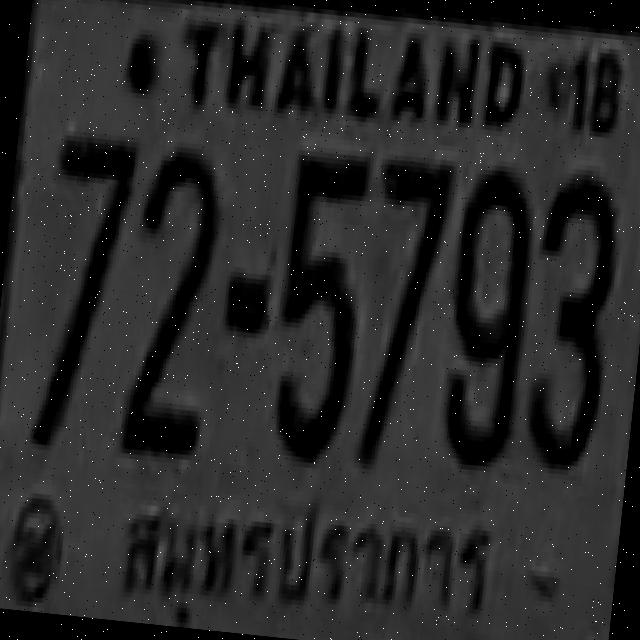2: (115, 141, 224, 452)
3: (518, 166, 620, 467)
5: (262, 144, 370, 460)
7: (27, 127, 136, 448), (350, 151, 452, 467), (33, 124, 137, 382)
9: (433, 160, 537, 466)
SamutPrakan: (114, 474, 504, 640)
